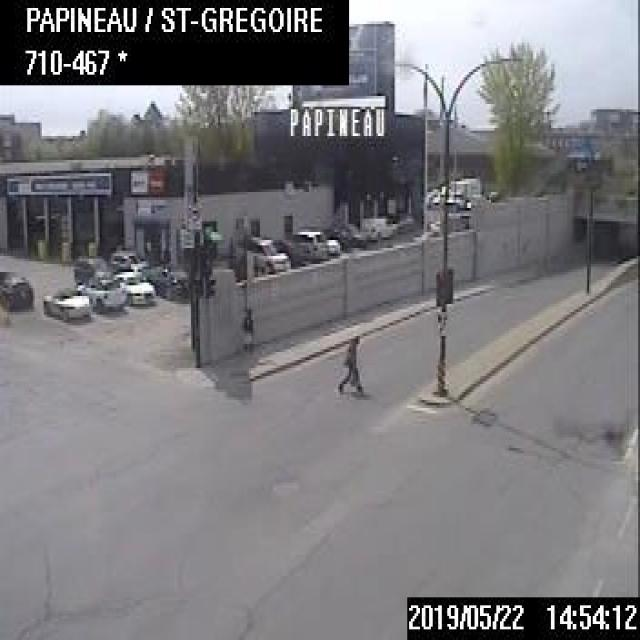pedestrian: (334, 333, 364, 395), (242, 304, 253, 349)
vehicle: (41, 284, 88, 323), (146, 263, 189, 302), (245, 235, 289, 273), (114, 267, 155, 306), (84, 274, 126, 311), (0, 271, 35, 313), (286, 228, 326, 260), (73, 253, 108, 280), (105, 248, 146, 270)
